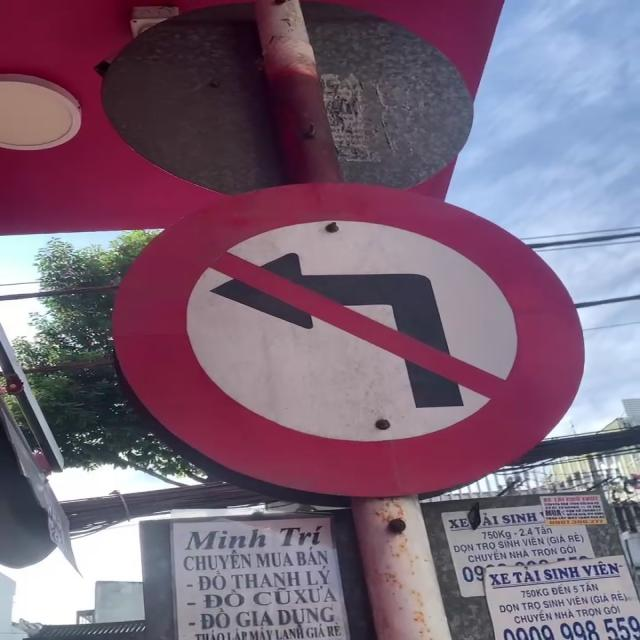Cam_Re_Trai: (111, 181, 586, 500)
